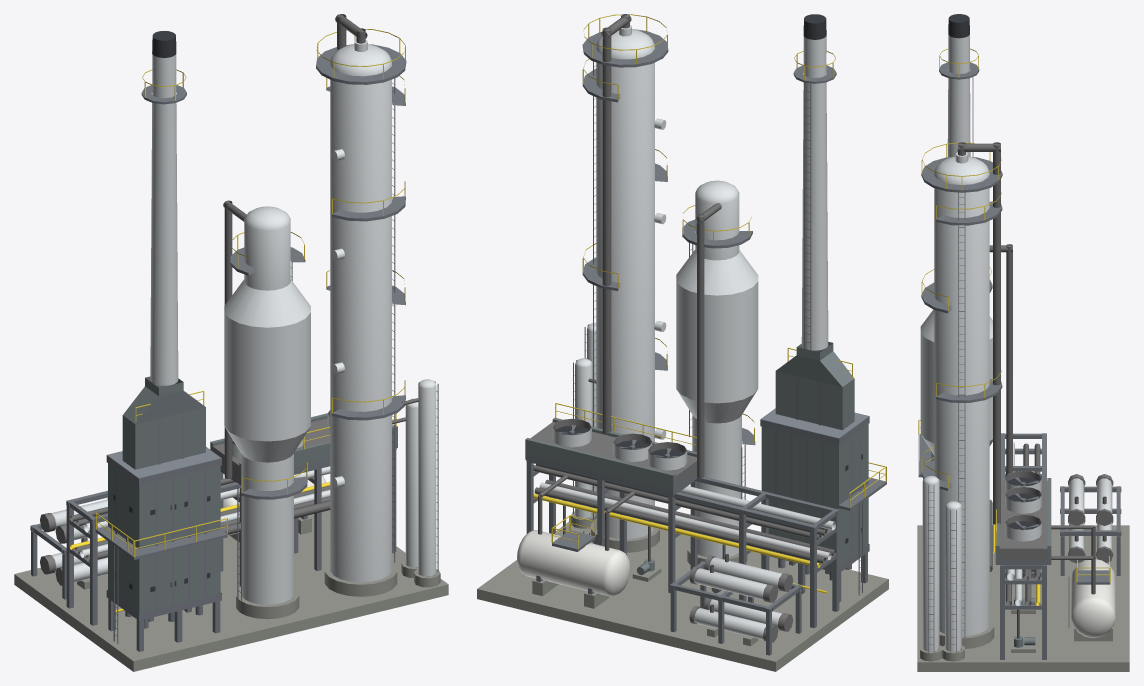
File: mashup-main-top-prebuilt_close.fbx
The picture shows the model from 3 angles, left to right: view 1: azimuth 30°, elevation 25°; view 2: azimuth 150°, elevation 25°; view 3: azimuth 270°, elevation 25°; orthographic projection. The views are drawn at different scales.
Visible parts, largest first — view 1: a1018/0/mashup-main-top-prebuilt_close; view 2: a1018/0/mashup-main-top-prebuilt_close; view 3: a1018/0/mashup-main-top-prebuilt_close.
Part boxes in pixels (left/top/right/bottom): a1018/0/mashup-main-top-prebuilt_close: left=14, top=14, right=448, bottom=671; a1018/0/mashup-main-top-prebuilt_close: left=477, top=14, right=888, bottom=671; a1018/0/mashup-main-top-prebuilt_close: left=917, top=14, right=1129, bottom=671.
Size of the model in its own units: 23.2 by 42.6 by 15.2.
